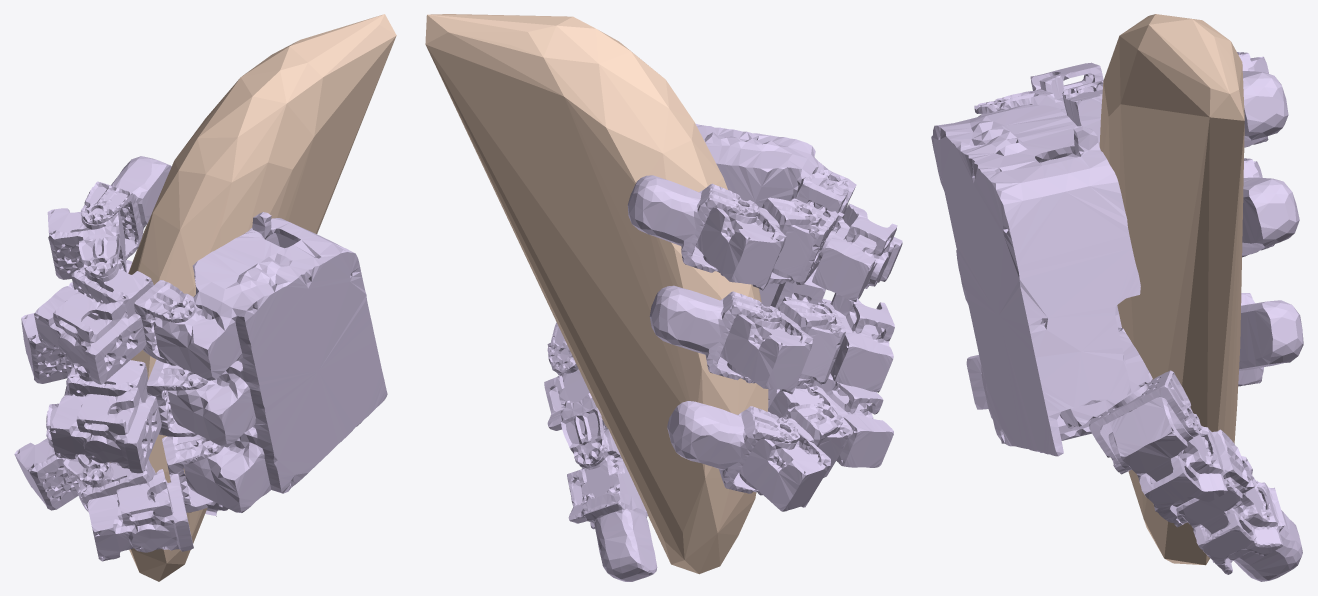
The model's file is facc9f429c3e8e-closed.glb.
3 views of the same model, side by side, from view 1: azimuth 30°, elevation 25°; view 2: azimuth 150°, elevation 25°; view 3: azimuth 270°, elevation 25° (orthographic). The views are drawn at different scales.
Visible parts, largest first — view 1: LEAP_hand, world; view 2: world, LEAP_hand; view 3: LEAP_hand, world.
Part boxes in pixels (x1=…): LEAP_hand: x1=14, y1=156, x2=387, y2=561; world: x1=109, y1=14, x2=396, y2=581; world: x1=425, y1=14, x2=768, y2=574; LEAP_hand: x1=544, y1=123, x2=902, y2=581; LEAP_hand: x1=931, y1=52, x2=1303, y2=581; world: x1=1099, y1=14, x2=1244, y2=565.
Bounding box in the file's own units: 0.2194 × 0.2629 × 0.1409.
